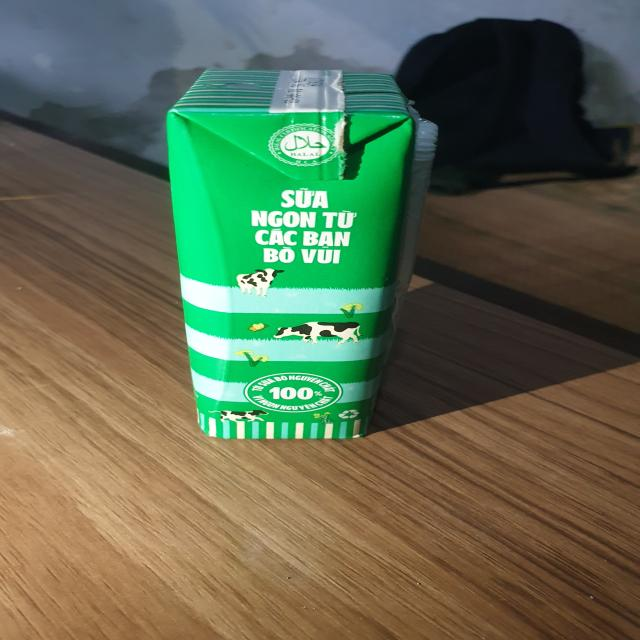Vina: (151, 68, 441, 442)
